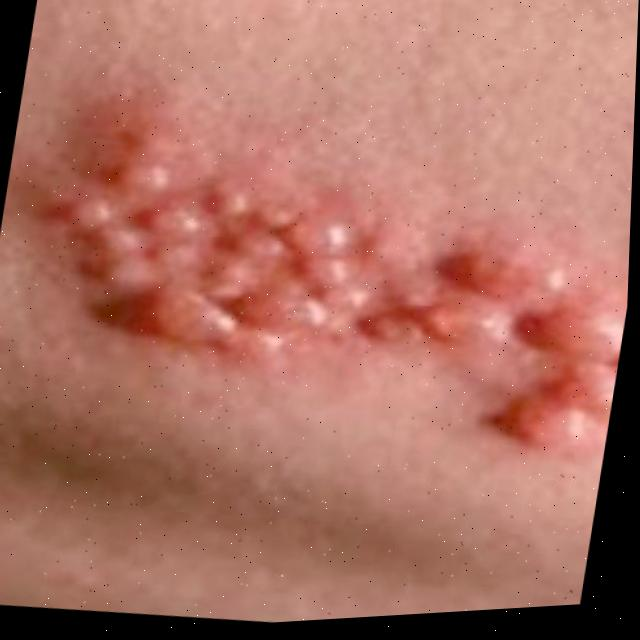Shingles: (42, 92, 635, 522)
